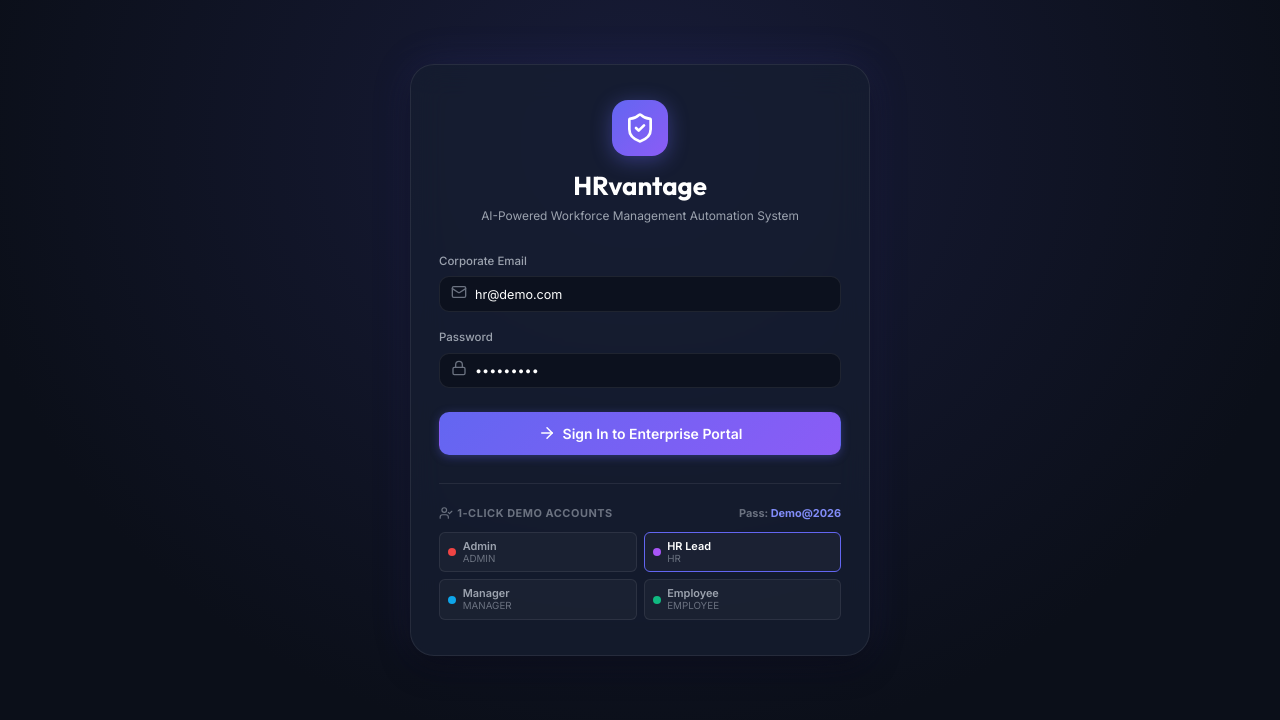
Test: Authentication & Login Page Tests › populates credentials when a demo account is clicked
Click the text "Manager": click(487, 594) [463,587,512,600]
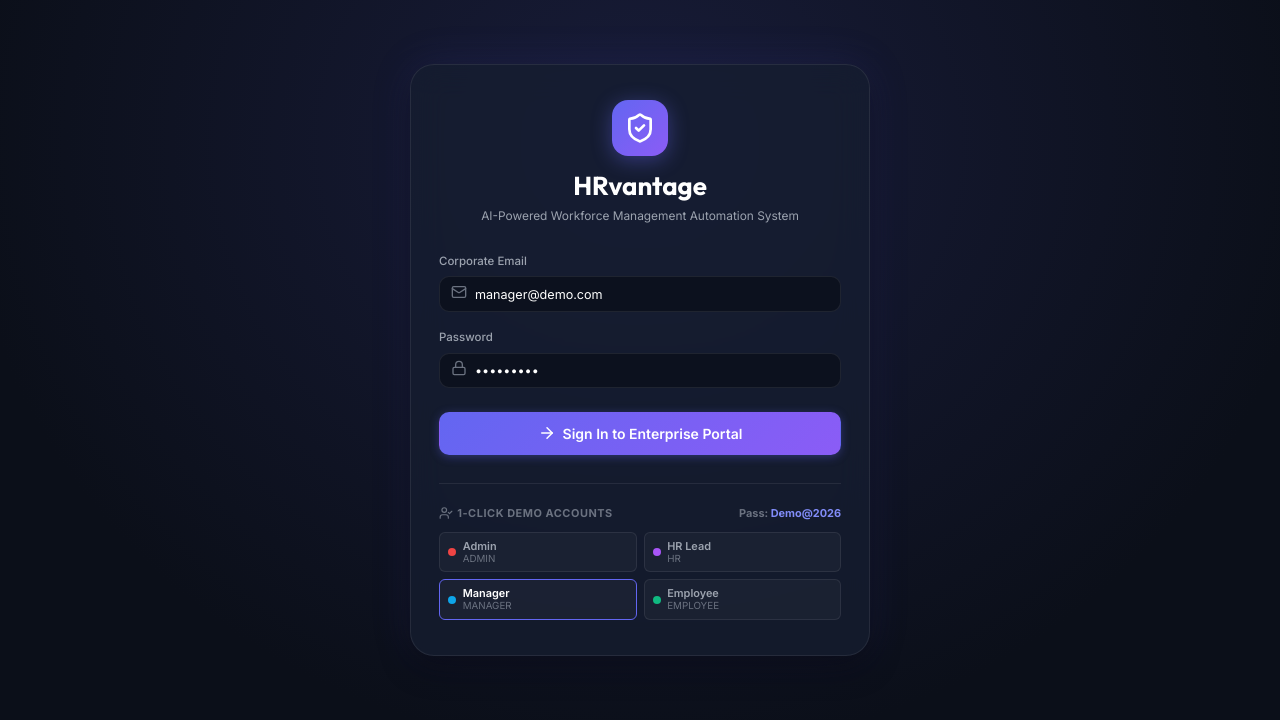
Now the field with placeholder "user@demo.com" holds "manager@demo.com", box [439,276,841,312]
